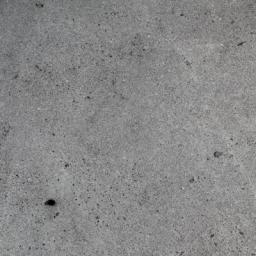FOD: (44, 197, 58, 211)
